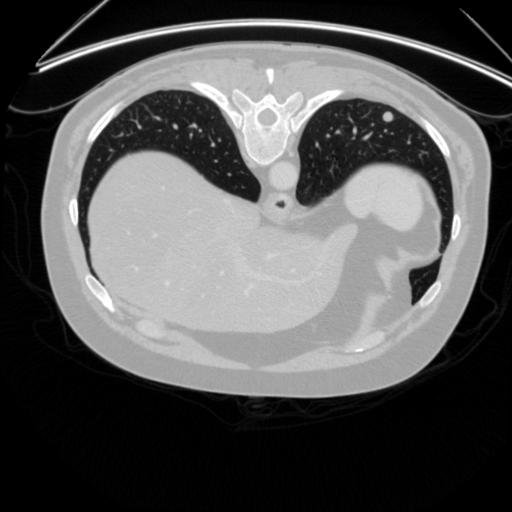nodule: (379, 109, 395, 125)
